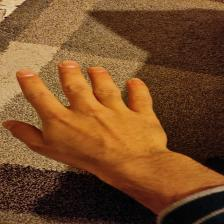one: (4, 61, 174, 167)
